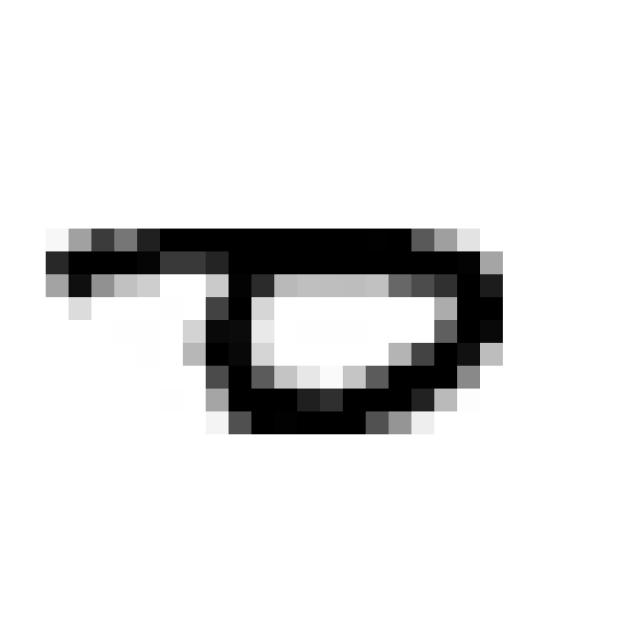5 -five-: (23, 204, 518, 456)
